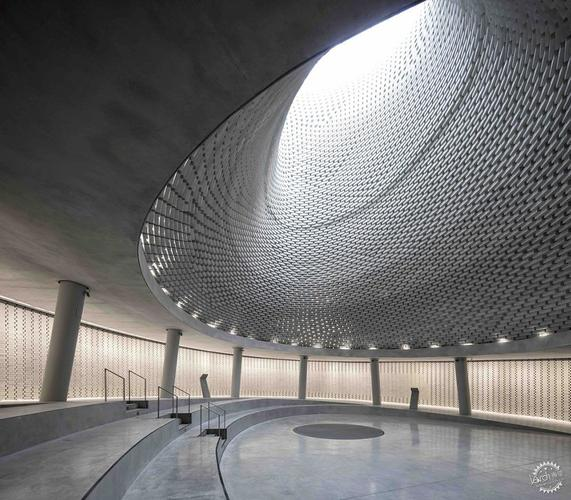buildings: (129, 50, 571, 341)
